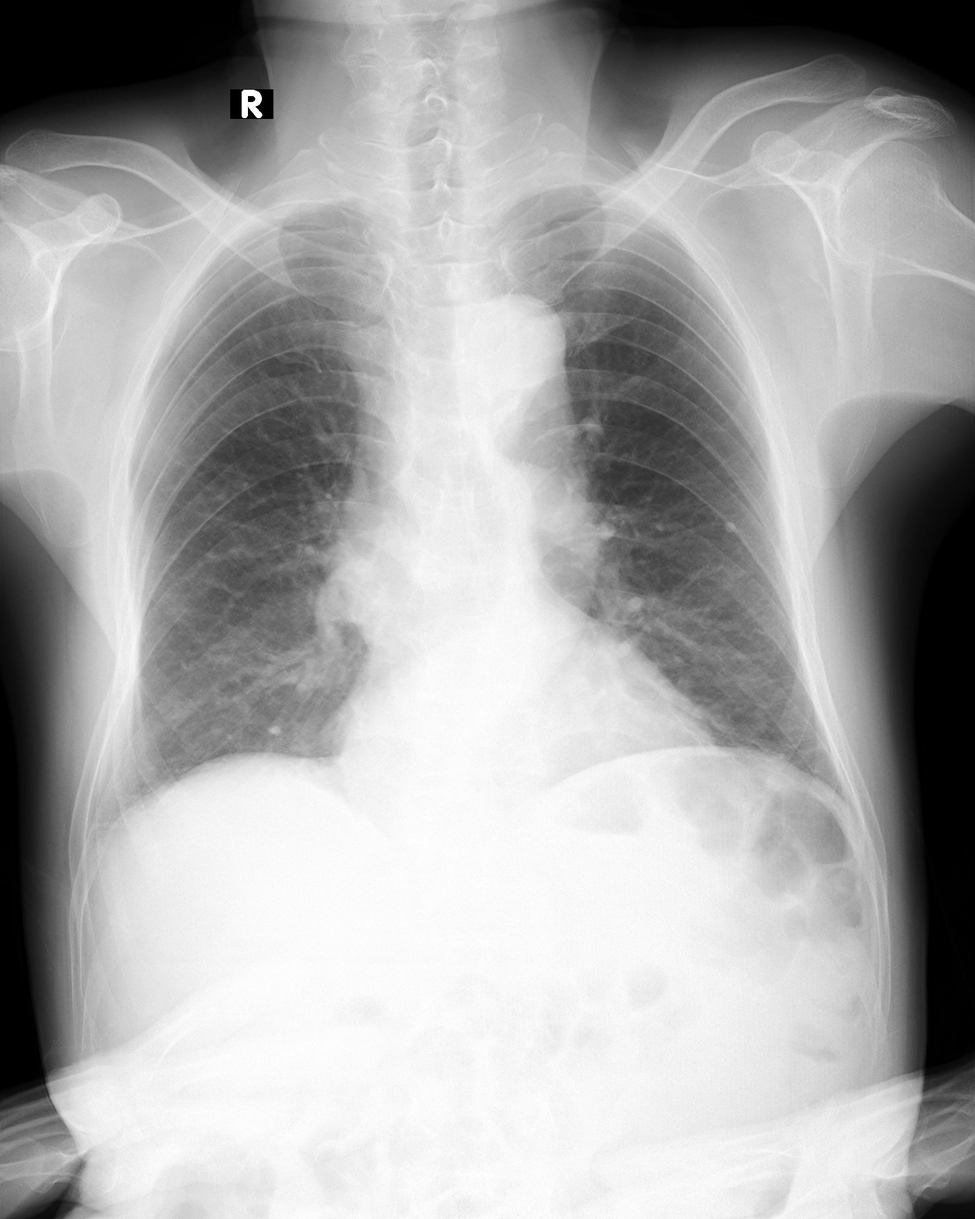Aortic enlargement: (458, 290, 570, 466)
